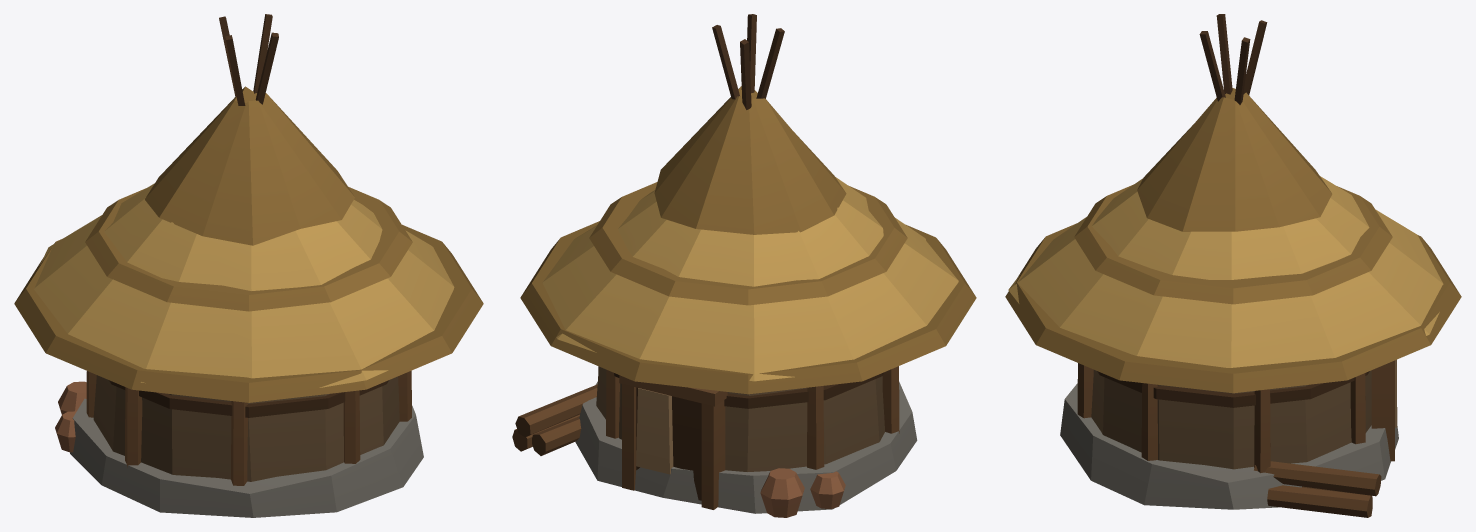
Rendered from house_1_s2.glb.
3 renders of one model, left to right at view 1: azimuth 30°, elevation 25°; view 2: azimuth 150°, elevation 25°; view 3: azimuth 270°, elevation 25°, orthographic. The views are drawn at different scales.
Parts seen in each view (by area): view 1: house_1_s2; view 2: house_1_s2; view 3: house_1_s2.
Boxes of the visible parts, box(x1,y1,x2,y2) form: house_1_s2: box(14, 14, 483, 517); house_1_s2: box(512, 14, 976, 517); house_1_s2: box(1005, 14, 1461, 517).
Size of the model in its own units: 1.98 by 2 by 1.98.
